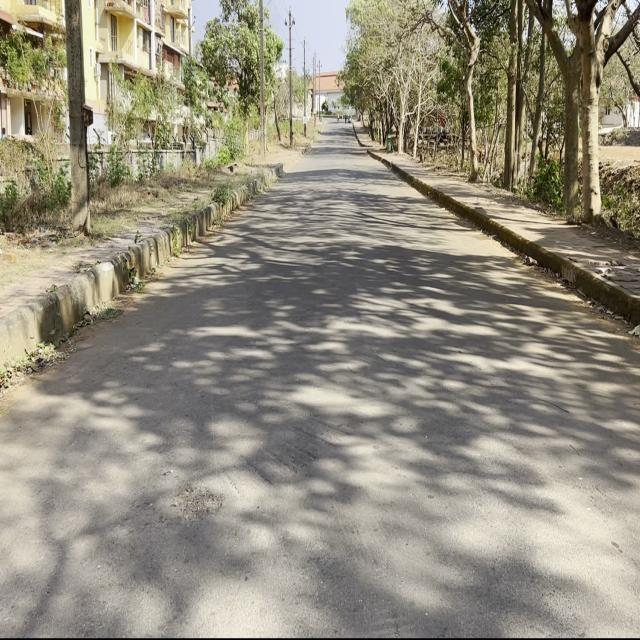Road: (3, 122, 636, 631)
